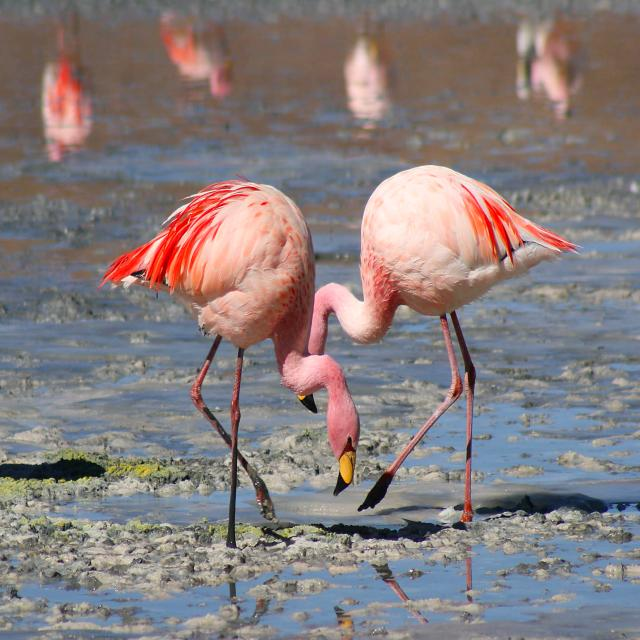flamingo: (309, 165, 580, 522), (101, 178, 360, 547)
